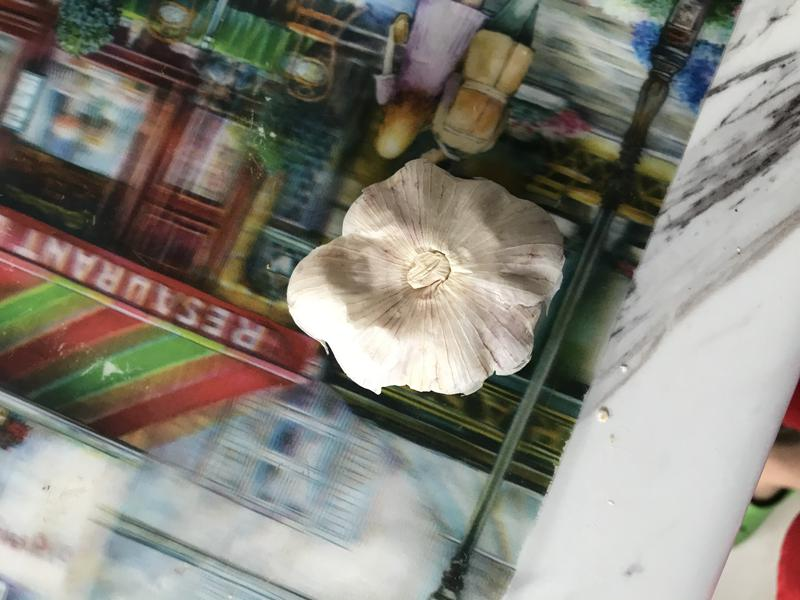garlic: (281, 148, 570, 410)
